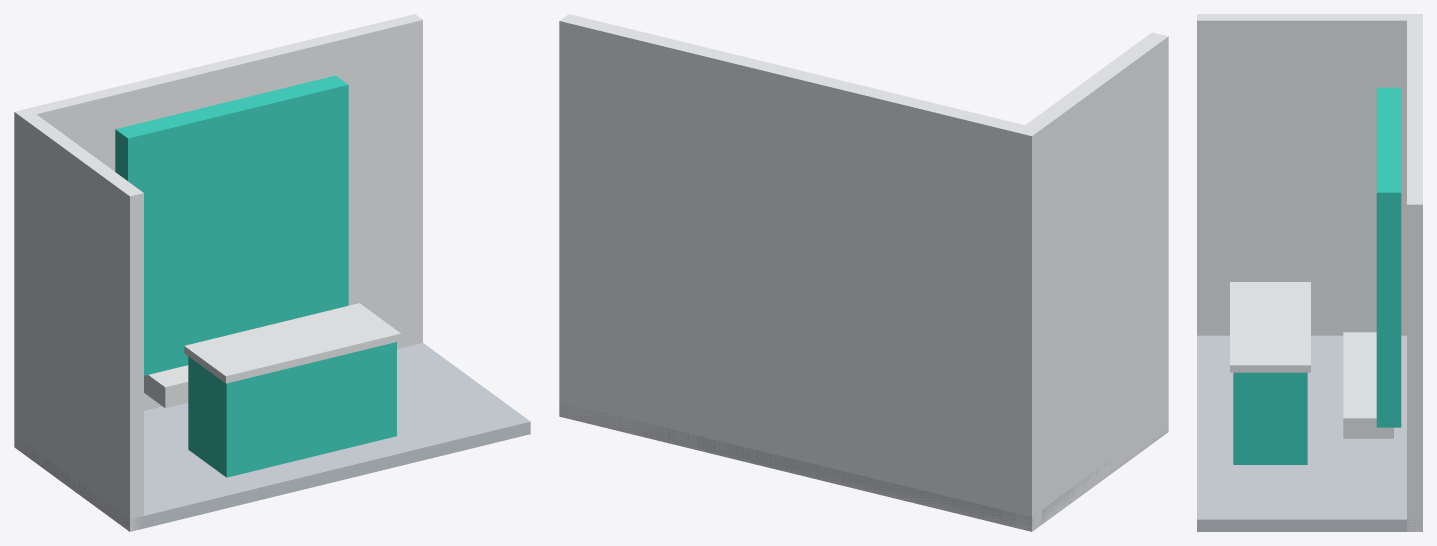
The picture shows the model from 3 angles, left to right: view 1: azimuth 30°, elevation 25°; view 2: azimuth 150°, elevation 25°; view 3: azimuth 270°, elevation 25°; orthographic projection. The views are drawn at different scales.
Visible parts, largest first — view 1: Exhibition Booth Concept; view 2: Exhibition Booth Concept; view 3: Exhibition Booth Concept.
Boxes of the visible parts, <box> form: Exhibition Booth Concept: <box>14,14,530,531</box>; Exhibition Booth Concept: <box>559,14,1168,531</box>; Exhibition Booth Concept: <box>1197,14,1422,531</box>.
Bounding box in the file's own units: 4 × 3.2 × 2.
